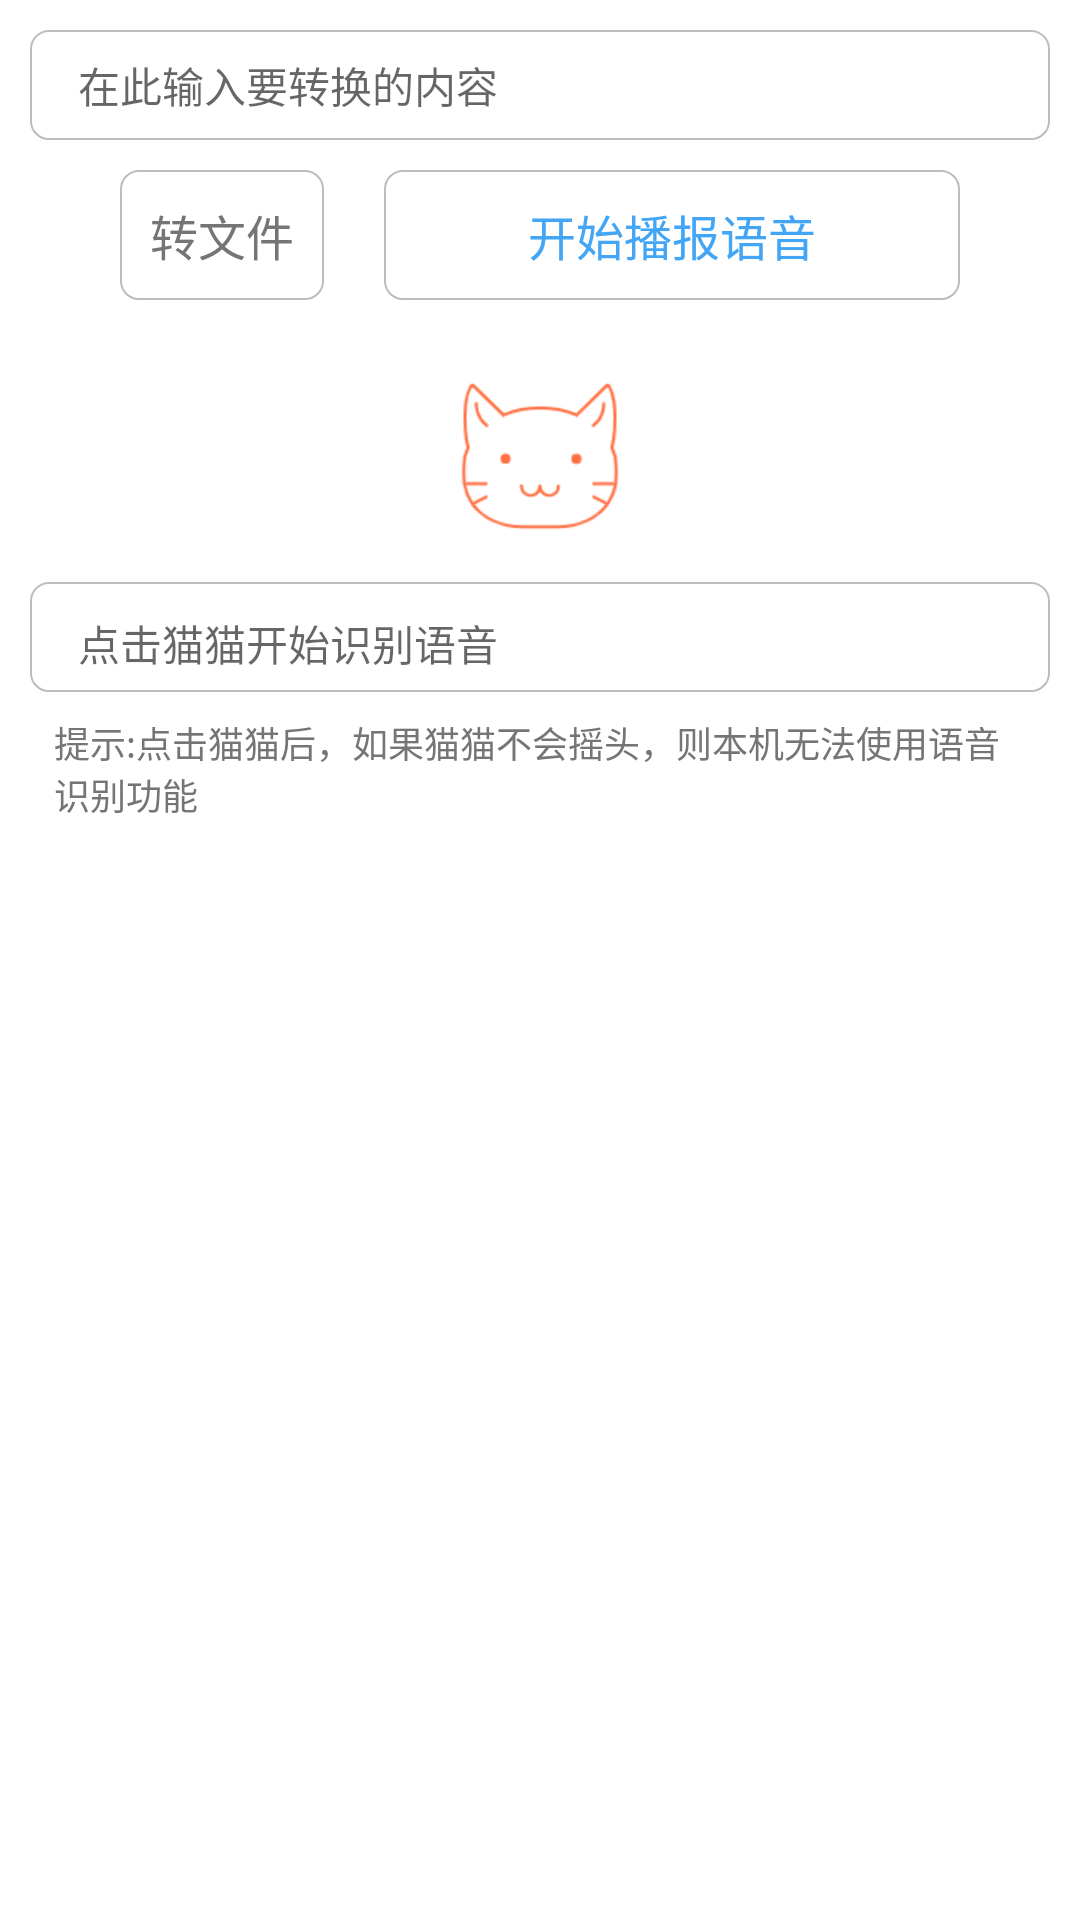

Icon bounding boxes for this 1080w x 1920h phone screenshot, format (x1, y1, x2, y2):
cat: (462, 383, 618, 529)
